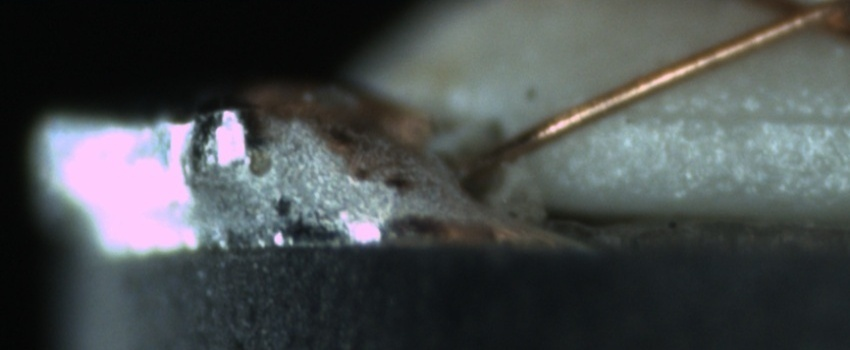CL: (754, 1, 839, 44)
DL: (623, 79, 846, 152)
